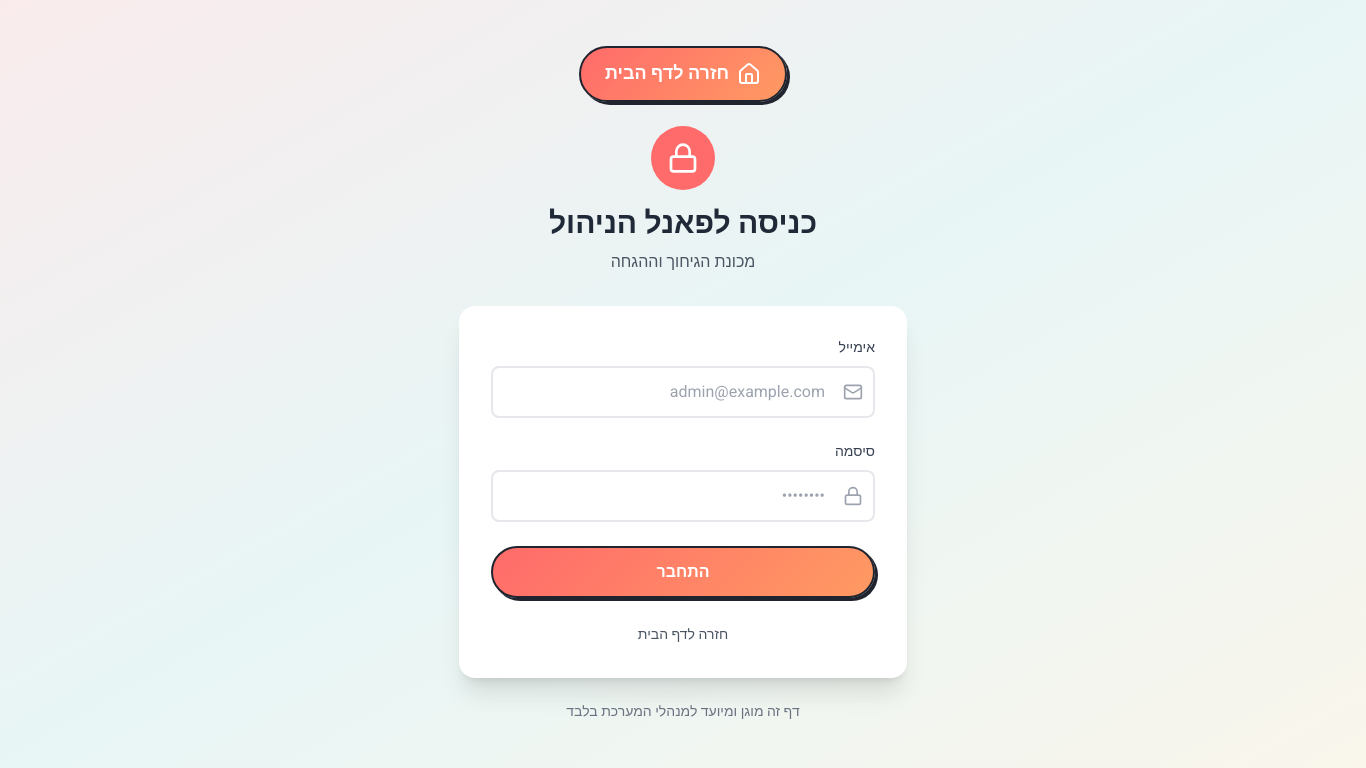
Test: Admin Authentication Flow › handles network errors
The width and height of the screenshot is (1366, 768).
In the field labelled "אימייל": (683, 392) [491,366,875,418], type "admin@test.com"
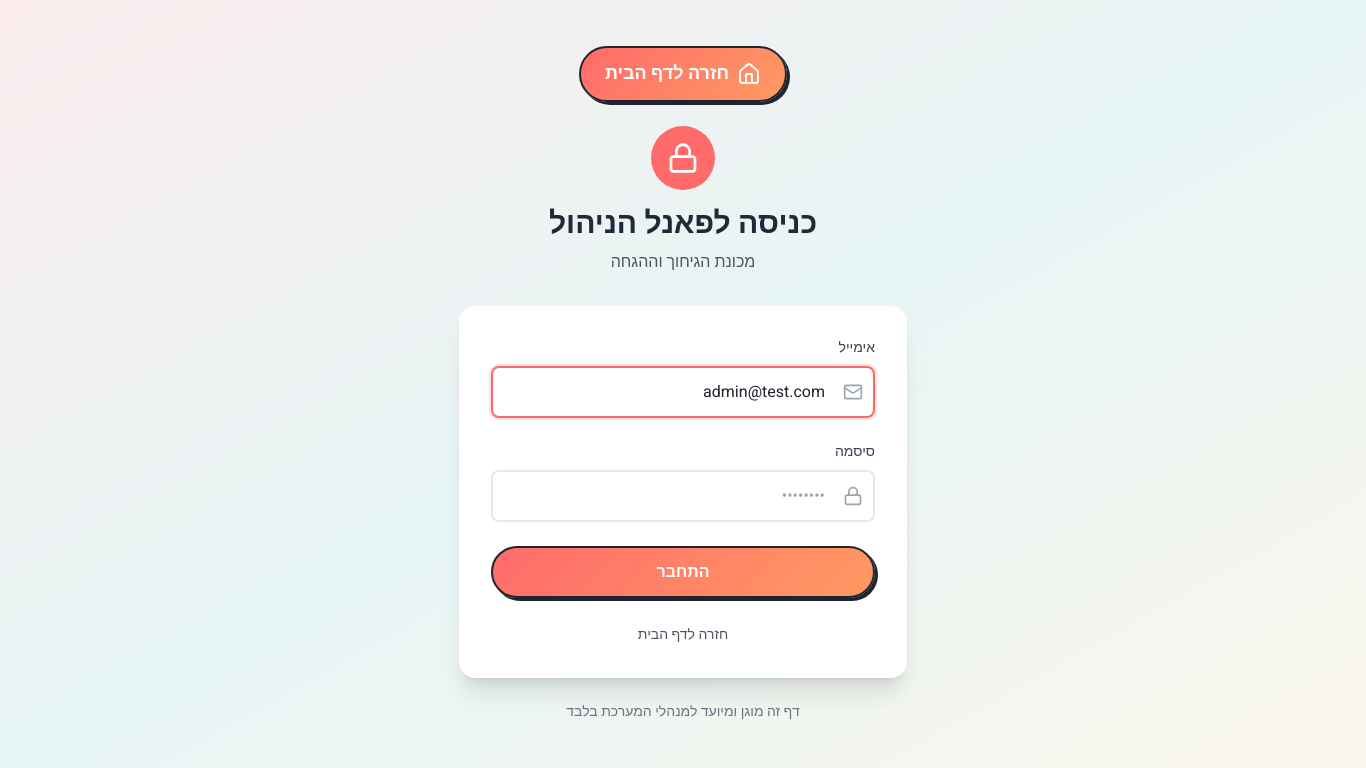
In the password field labelled "סיסמה": (683, 496) [491,470,875,522], type "password123"
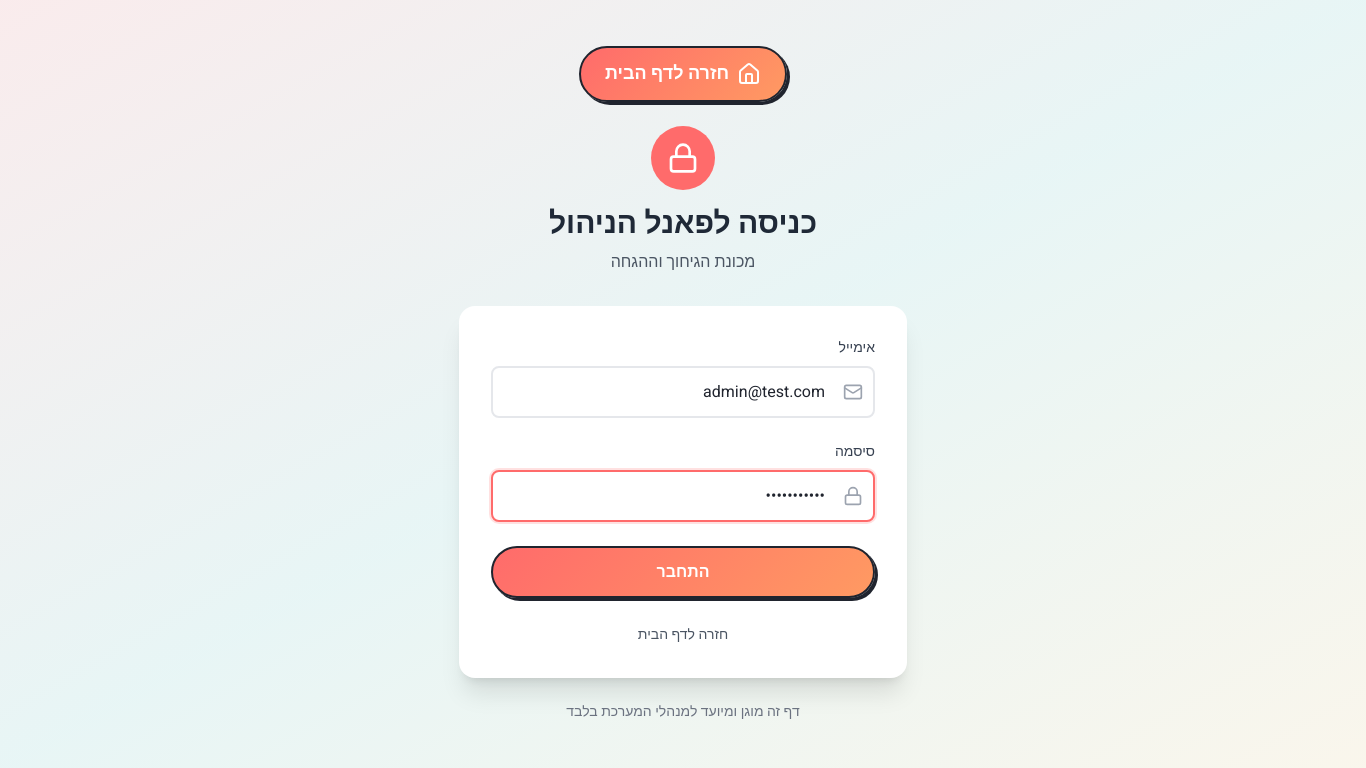
Click the button "התחבר": (683, 572) [491,546,875,598]
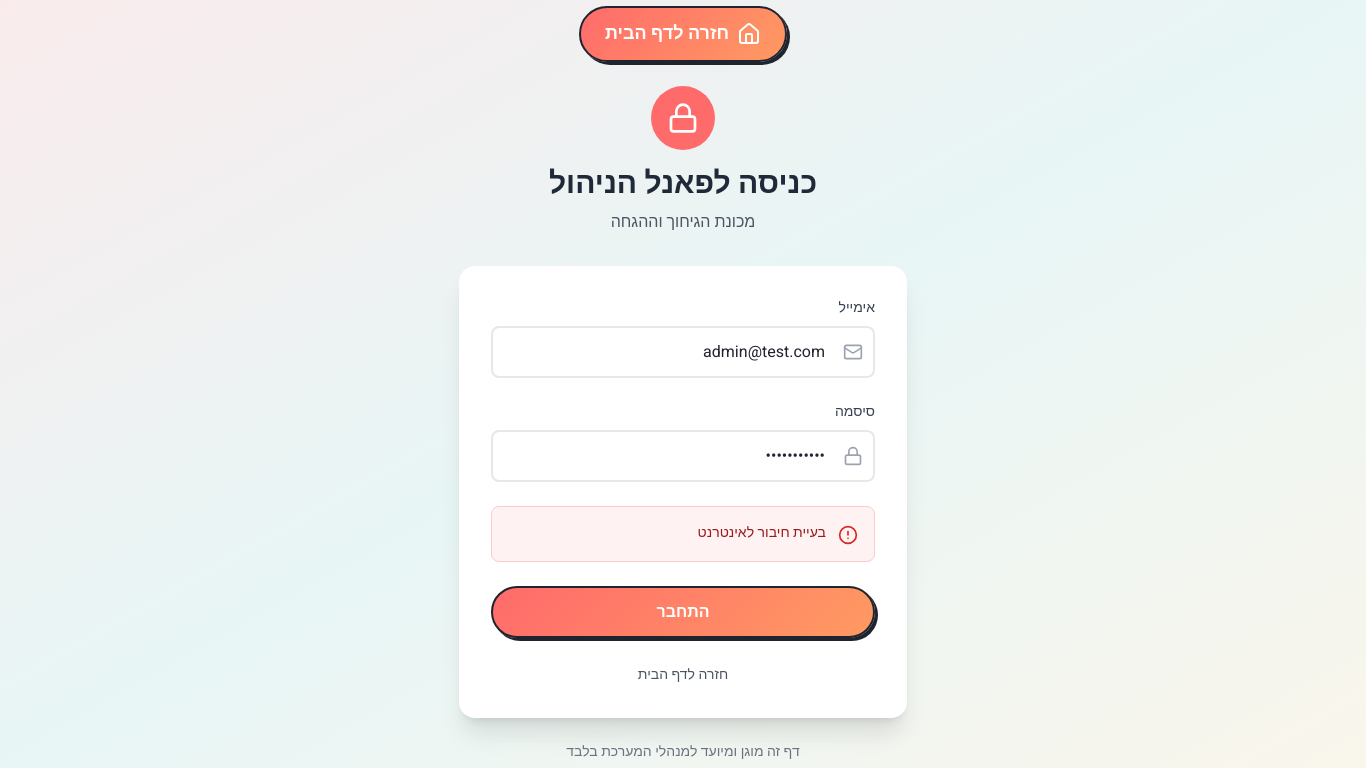
Now the text "בעיית חיבור לאינטרנט" is shown, box [698,523,826,543]
